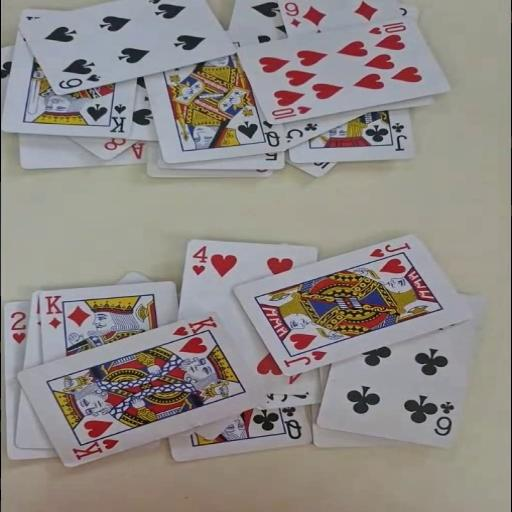10: (269, 104, 313, 120), (367, 20, 408, 35)
2: (8, 309, 28, 345)
4: (188, 244, 208, 276)
5: (283, 121, 319, 143)
6: (430, 400, 456, 436), (55, 72, 102, 90)
8: (101, 136, 128, 151)
9: (282, 0, 302, 28)
J: (281, 348, 329, 368), (366, 240, 412, 258), (389, 121, 408, 151)
K: (69, 436, 120, 461), (169, 314, 219, 338), (42, 293, 64, 330)
